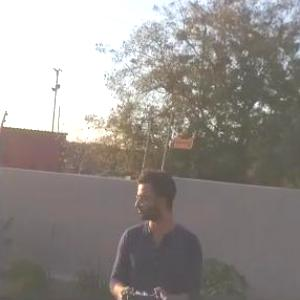follow: (103, 154, 208, 299)
